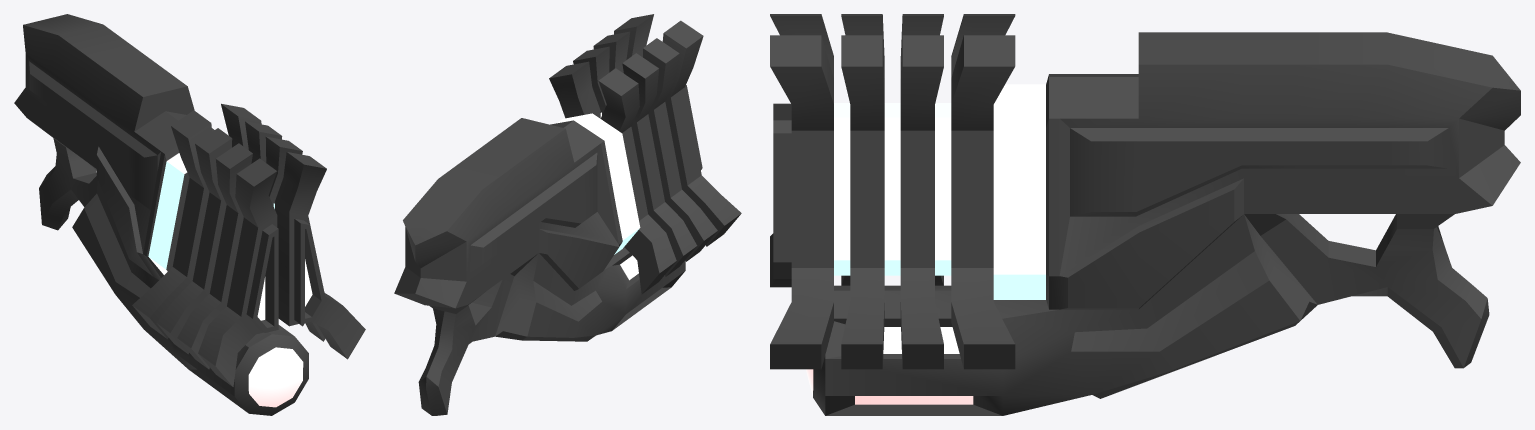
File: Gun.glb
3 views of the same model, side by side, from view 1: azimuth 30°, elevation 25°; view 2: azimuth 150°, elevation 25°; view 3: azimuth 270°, elevation 25° (orthographic). The views are drawn at different scales.
Visible parts, largest first — view 1: SciFi_gun_carbine.002; view 2: SciFi_gun_carbine.002; view 3: SciFi_gun_carbine.002.
Part boxes in pixels (x1=…): SciFi_gun_carbine.002: x1=14, y1=14, x2=365, y2=415; SciFi_gun_carbine.002: x1=394, y1=14, x2=741, y2=415; SciFi_gun_carbine.002: x1=770, y1=14, x2=1520, y2=415.
Size of the model in its own units: 0.1666 by 0.277 by 0.4892.
